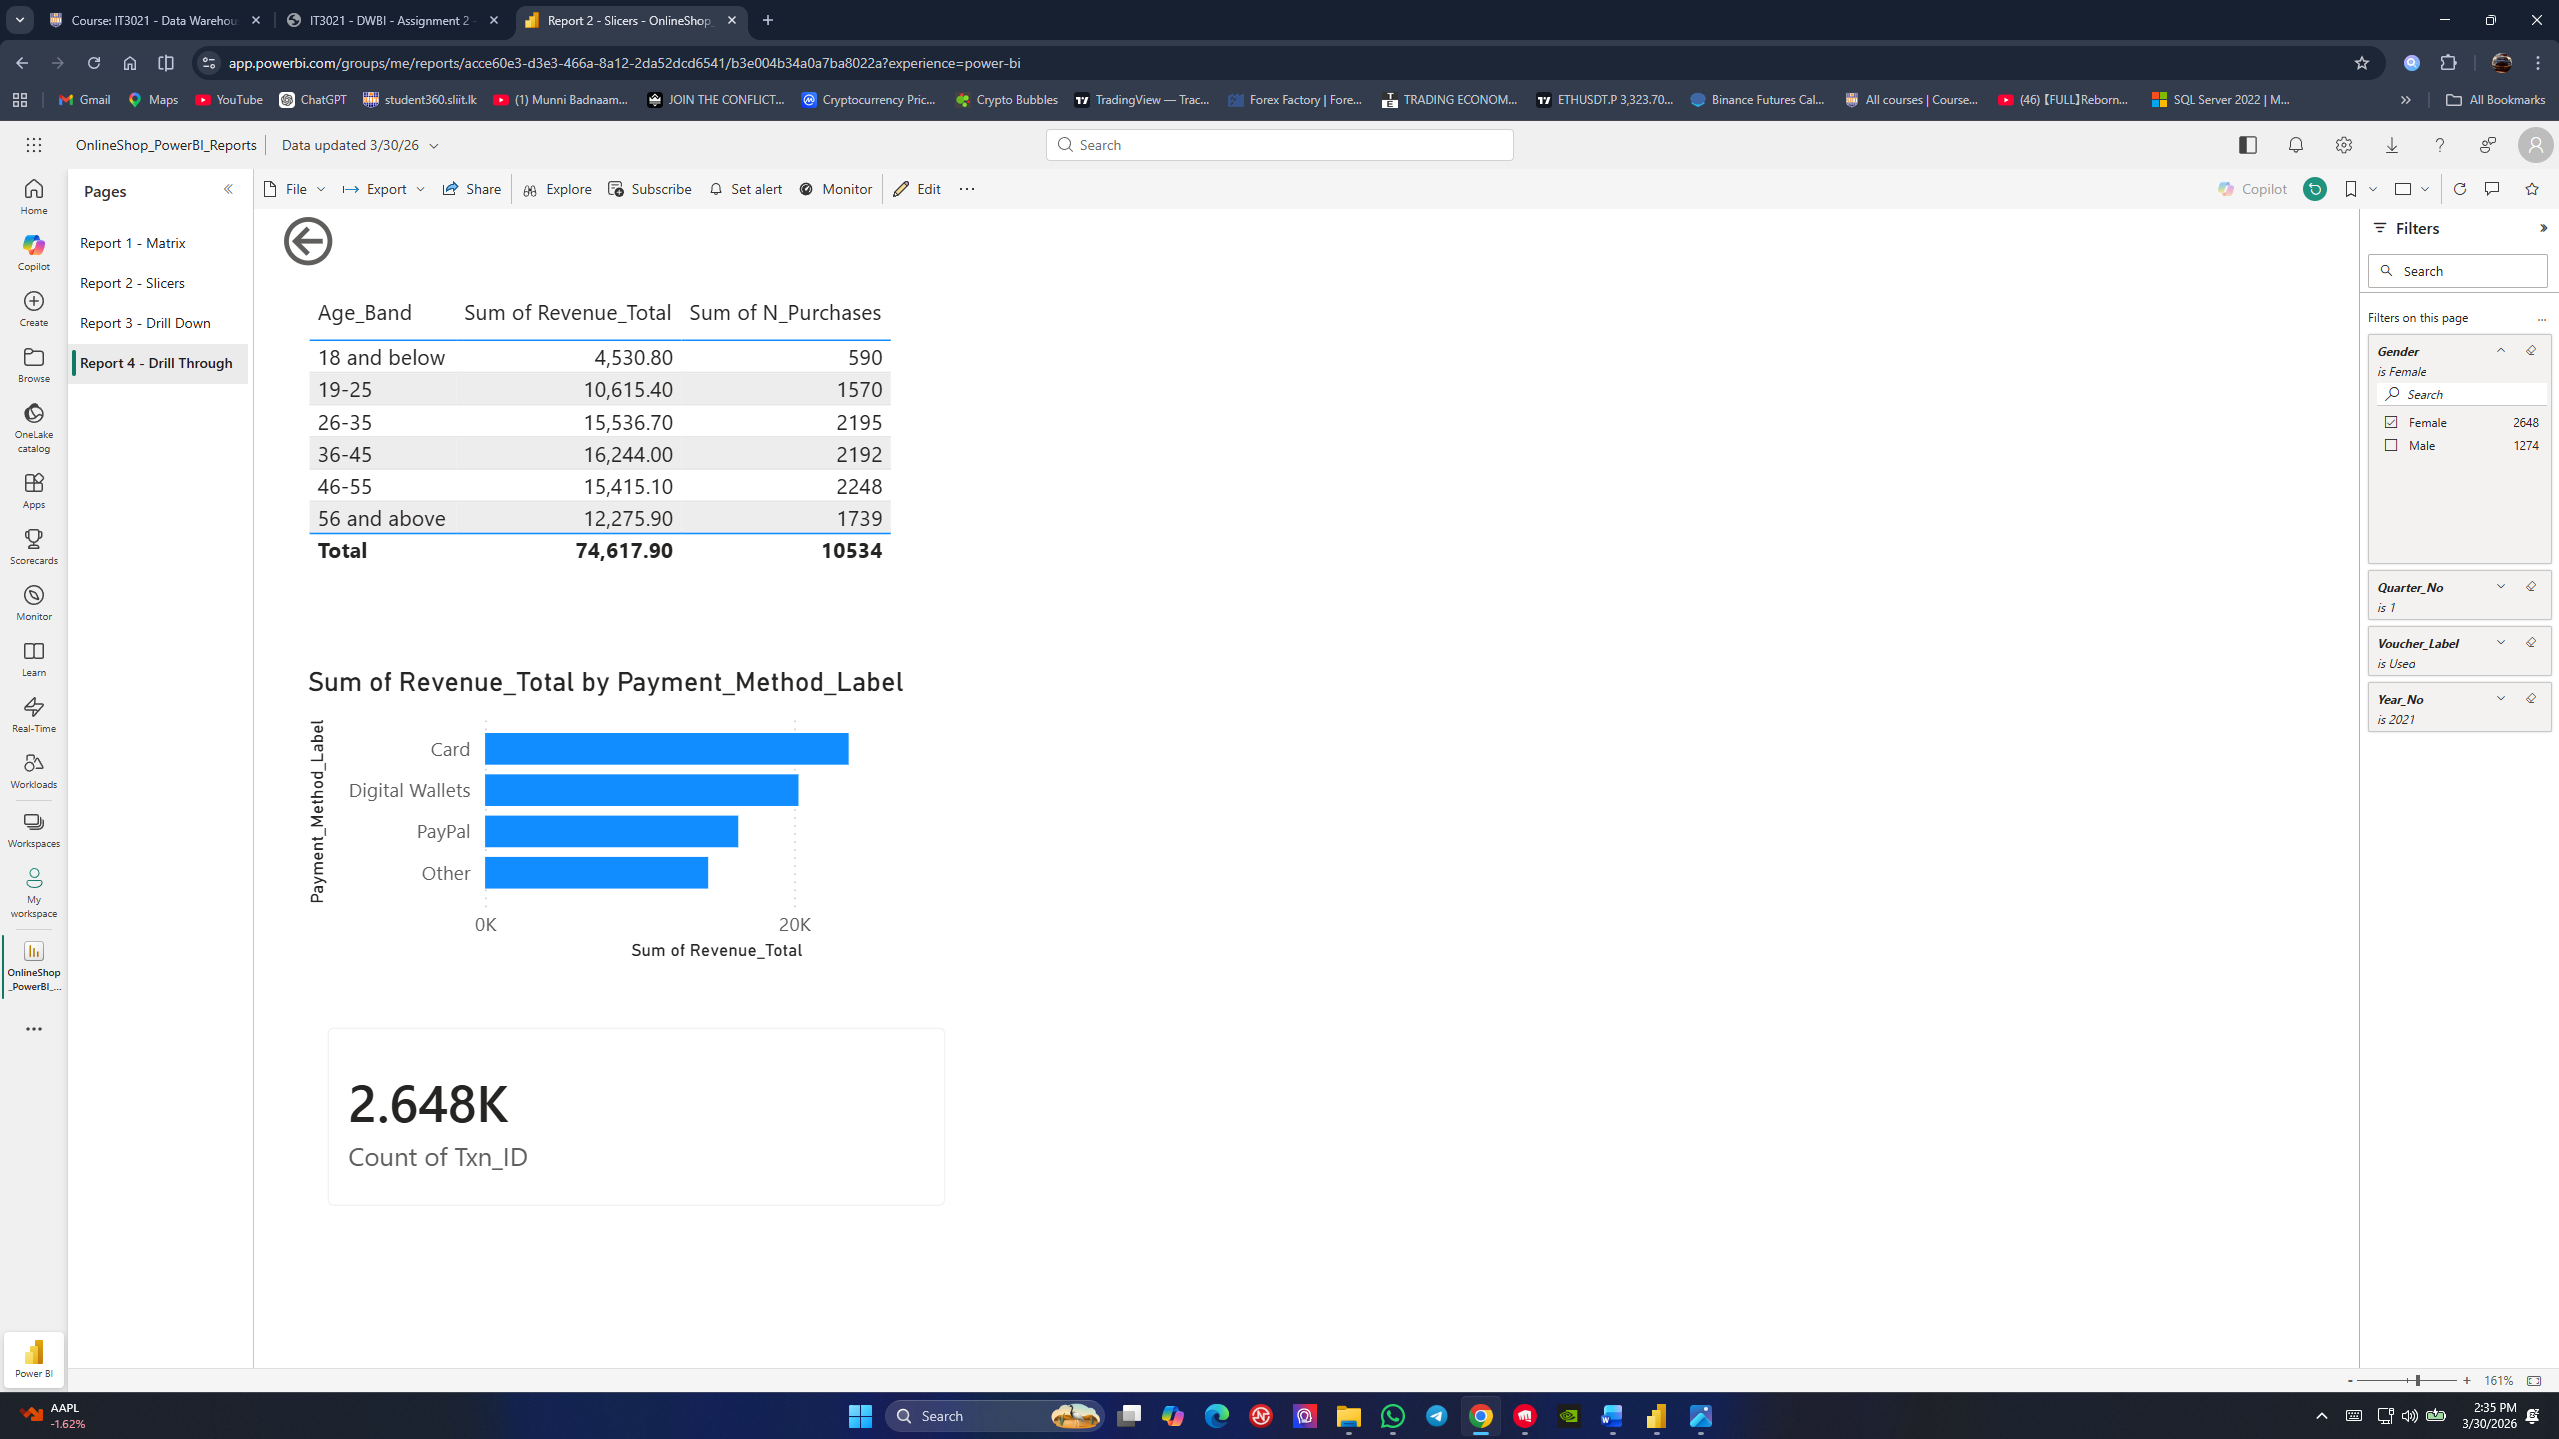

What the dashboard file says about the page in this screenshot:
{"tool":"powerbi","page":{"name":"Report 4 - Drill Through","canvas":[1280,720],"ordinal":3},"visuals":[{"type":"actionButton","box":[0,0,100,40],"z":0},{"type":"tableEx","fields":{"Values":["DimCustomer.Age_Band","Sum(FactSales.Revenue_Total)","Sum(FactSales.N_Purchases)"]},"box":[15.1,49.1,418.2,180],"z":1000},{"type":"clusteredBarChart","fields":{"Category":["DimPayment.Payment_Method_Label"],"Y":["Sum(FactSales.Revenue_Total)"]},"box":[15,283,418,188],"z":2000},{"type":"cardVisual","fields":{"Data":["CountNonNull(FactSales.Txn_ID)"]},"box":[15.1,491.5,418.2,145.9],"z":3000}]}

Visuals, with their boxes on the page's 1280x720 design canvas (x1, y1, x2, y2). These are canvas units, not pixel positions in the 2559x1439 screenshot, which may show the page scaled, cropped or inside an application window:
actionButton: region(0, 0, 100, 40)
tableEx - DimCustomer.Age_Band x Sum(FactSales.Revenue_Total): region(15, 49, 433, 229)
clusteredBarChart - DimPayment.Payment_Method_Label x Sum(FactSales.Revenue_Total): region(15, 283, 433, 471)
cardVisual - CountNonNull(FactSales.Txn_ID): region(15, 492, 433, 637)
